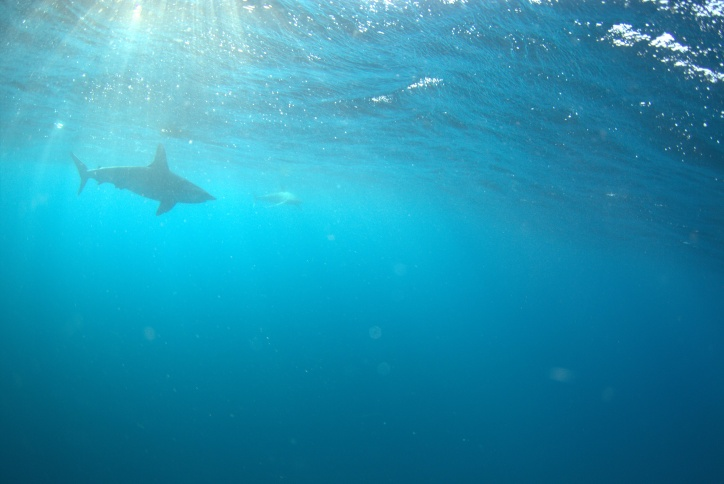Hammer: (54, 134, 235, 231)
